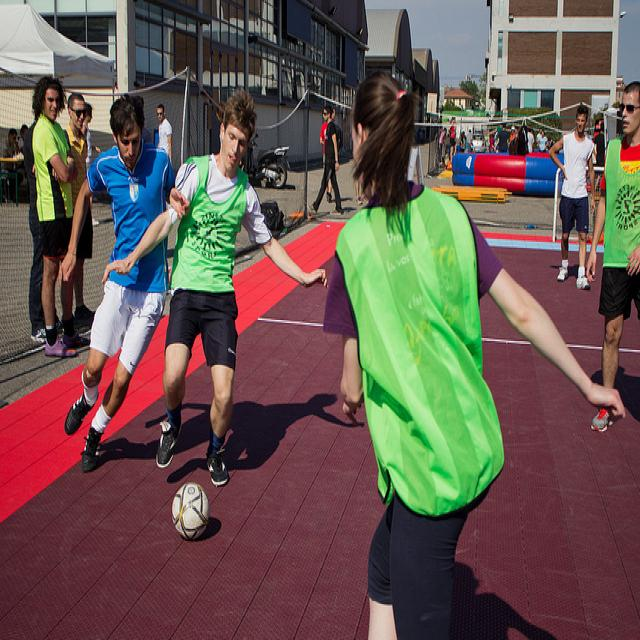motor: (251, 132, 290, 190)
